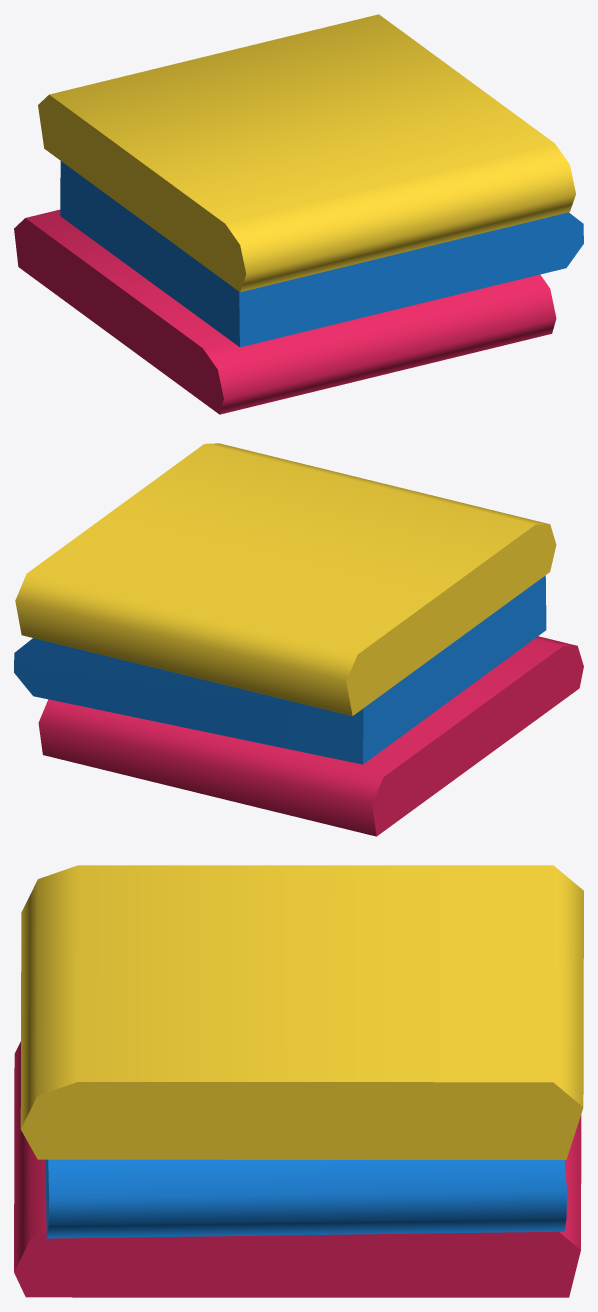
File: shop_043.fbx
3 renders of one model, top to bottom at view 1: azimuth 30°, elevation 25°; view 2: azimuth 150°, elevation 25°; view 3: azimuth 270°, elevation 25°, orthographic. The views are drawn at different scales.
Visible parts, largest first — view 1: shop_043; view 2: shop_043; view 3: shop_043.
Boxes of the visible parts, x1,y1,x2,y2 form: shop_043: (14, 14, 583, 414); shop_043: (14, 443, 583, 836); shop_043: (14, 865, 583, 1297).
Size of the model in its own units: 41.02 by 40.32 by 17.96.
